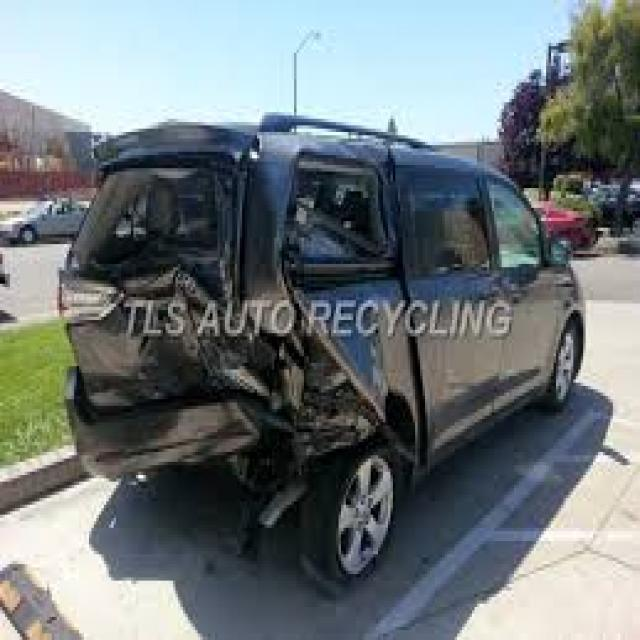severe: (79, 107, 387, 513)
